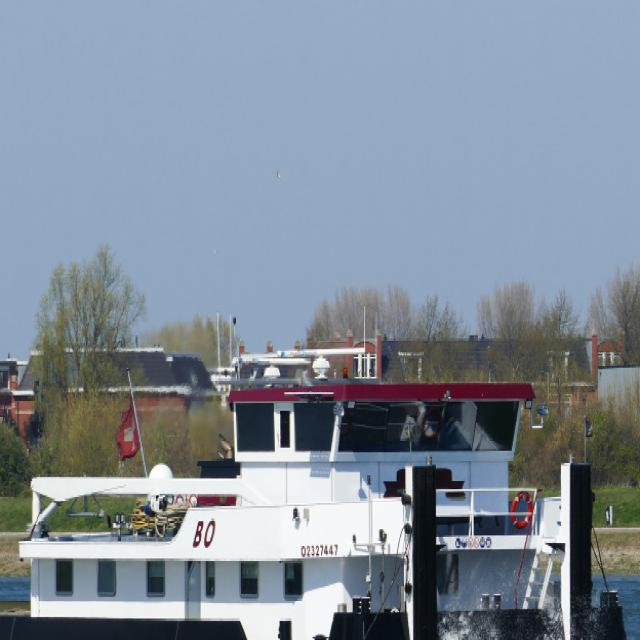tugboat: (1, 322, 640, 640)
